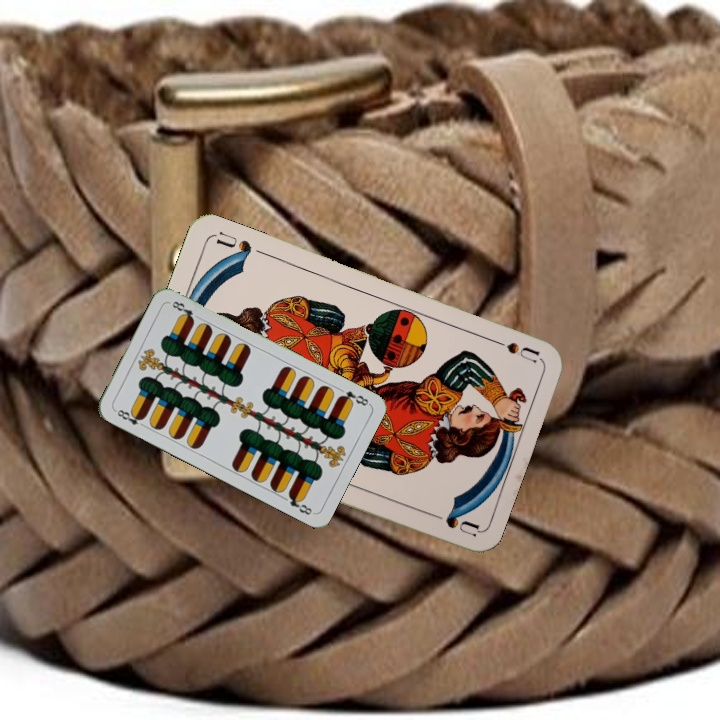E8: (111, 405, 148, 430), (334, 387, 372, 409)
SU: (483, 333, 542, 366)
